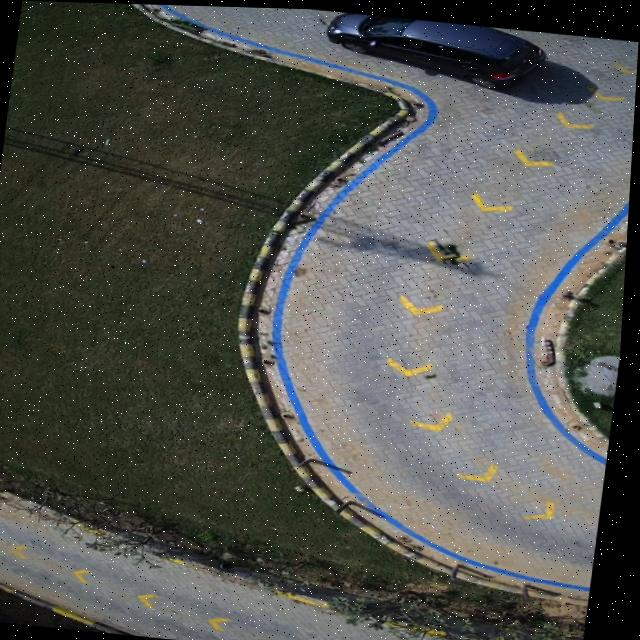car: (327, 10, 543, 85)
